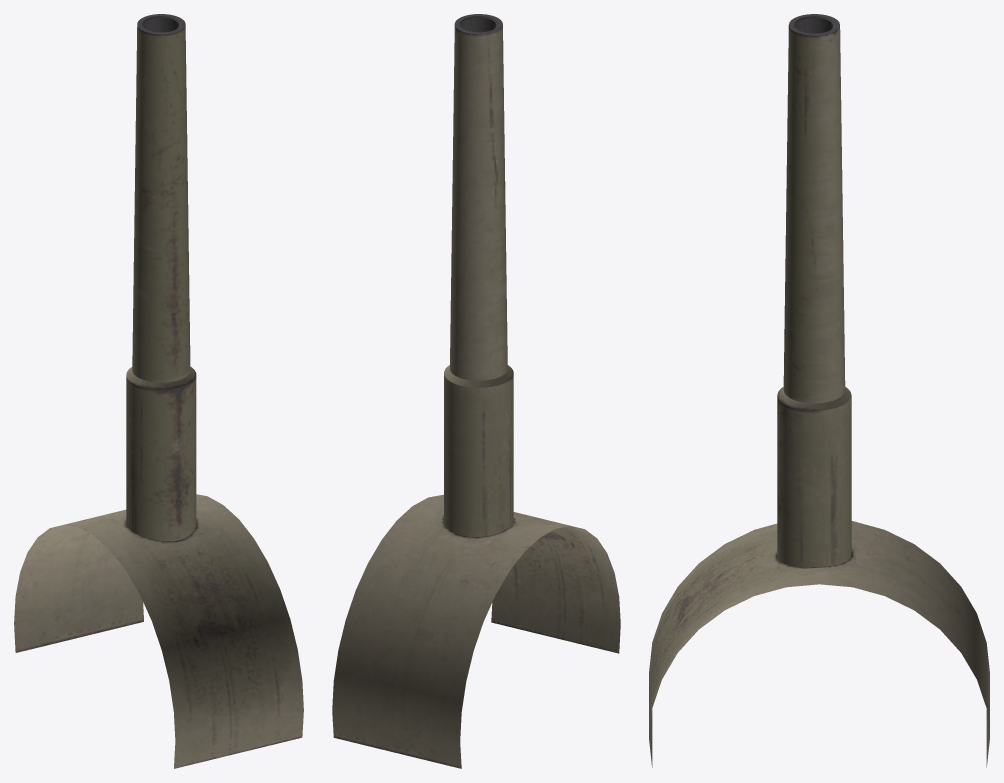
File: Gun_01.glb
The picture shows the model from 3 angles, left to right: view 1: azimuth 30°, elevation 25°; view 2: azimuth 150°, elevation 25°; view 3: azimuth 270°, elevation 25°; orthographic projection. The views are drawn at different scales.
Visible parts, largest first — view 1: set_0_group_0; view 2: set_0_group_0; view 3: set_0_group_0.
Part boxes in pixels (left/top/right/bottom): set_0_group_0: left=14, top=14, right=303, bottom=768; set_0_group_0: left=332, top=14, right=620, bottom=768; set_0_group_0: left=649, top=14, right=989, bottom=767.
Bounding box in the file's own units: 0.5842 × 2.92 × 1.27.
Materials: 1 (1 with a texture image).
